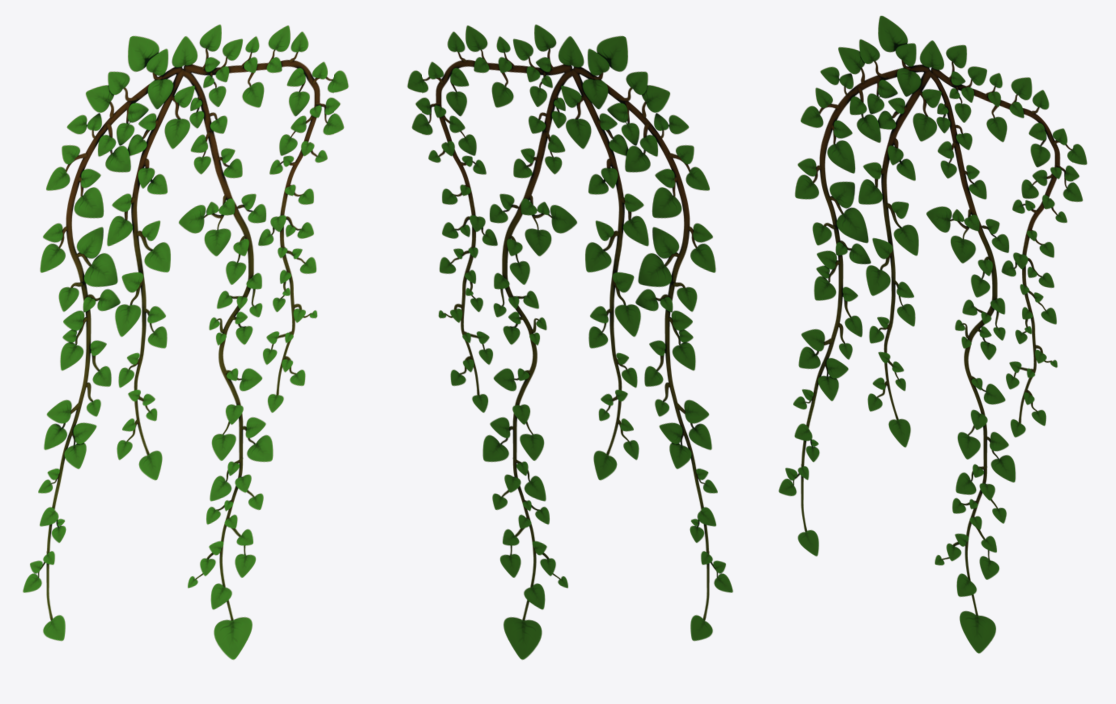
The model's file is vine.glb.
3 renders of one model, left to right at view 1: azimuth 30°, elevation 25°; view 2: azimuth 150°, elevation 25°; view 3: azimuth 330°, elevation 25°, orthographic. The views are drawn at different scales.
Parts seen in each view (by area): view 1: vines; view 2: vines; view 3: vines.
Part boxes in pixels (left/top/right/bottom): vines: left=23, top=24, right=348, bottom=659; vines: left=407, top=24, right=732, bottom=659; vines: left=778, top=15, right=1087, bottom=653.
Size of the model in its own units: 0.0163 by 0.0308 by 8.94e-10.
1 material, 1 textured.
